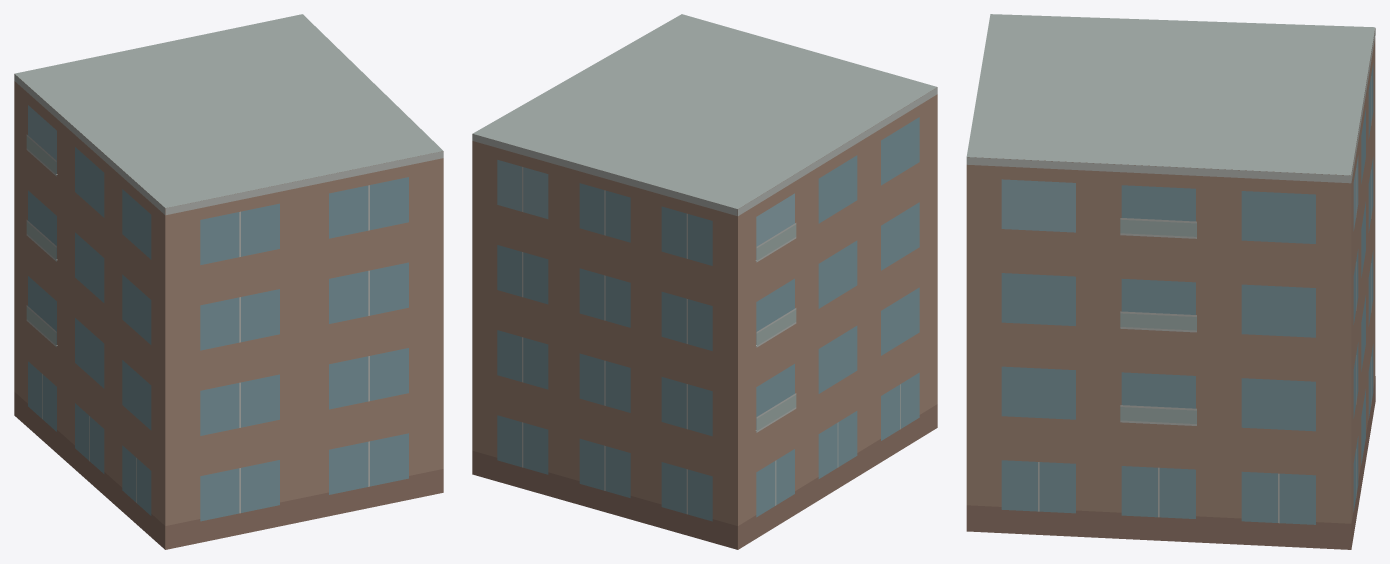
File: survey-upis-32982858.glb
3 views of the same model, side by side, from view 1: azimuth 30°, elevation 25°; view 2: azimuth 150°, elevation 25°; view 3: azimuth 270°, elevation 25° (orthographic). The views are drawn at different scales.
Parts seen in each view (by area): view 1: survey-upis-32982858.tmp; view 2: survey-upis-32982858.tmp; view 3: survey-upis-32982858.tmp.
Part boxes in pixels (x1=…): survey-upis-32982858.tmp: x1=14, y1=14, x2=443, y2=549; survey-upis-32982858.tmp: x1=472, y1=14, x2=937, y2=549; survey-upis-32982858.tmp: x1=966, y1=14, x2=1375, y2=549.
Size of the model in its own units: 10.83 by 11.7 by 11.59.
